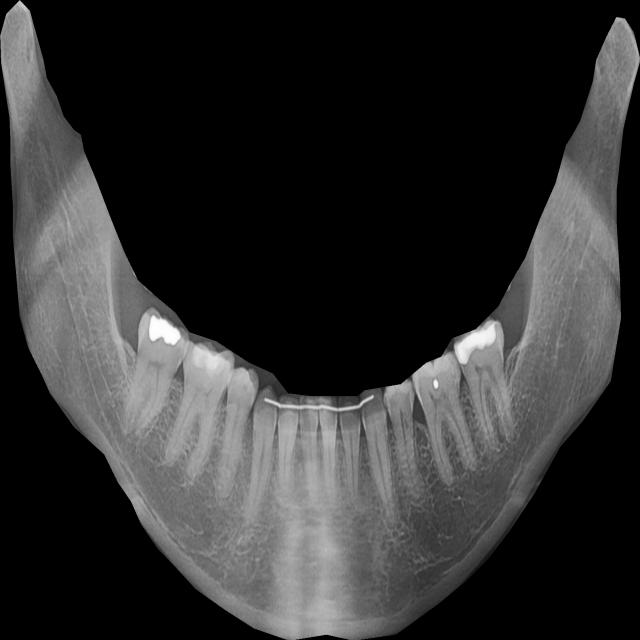mandibula: (0, 0, 640, 640)
